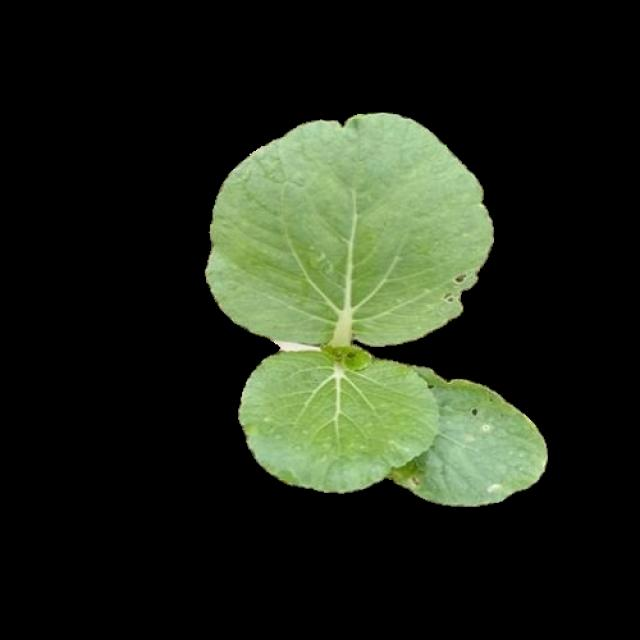not-mature: (210, 110, 549, 507)
unhealthy: (210, 113, 504, 347), (402, 376, 548, 504)
